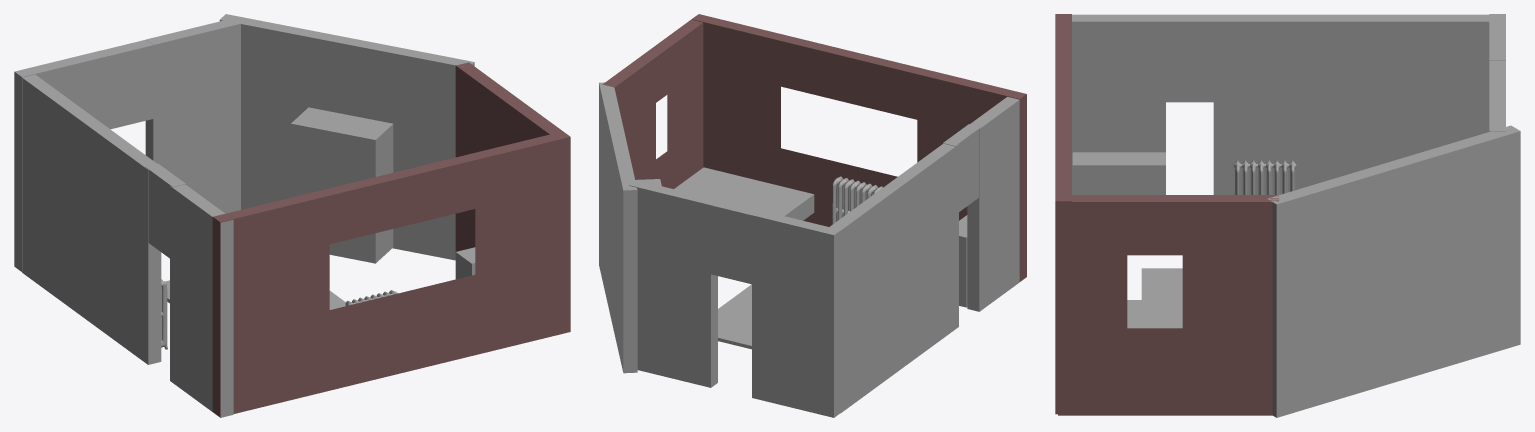
The model's file is whiteblock_hoperoom_02.fbx.
3 views of the same model, side by side, from view 1: azimuth 30°, elevation 25°; view 2: azimuth 150°, elevation 25°; view 3: azimuth 270°, elevation 25° (orthographic). The views are drawn at different scales.
Parts seen in each view (by area): view 1: Wall_bigWindow, Wall_bathroom_1, Wall_diagonal, Wall_entry_3, Wall_bathroom_3, Wardrobe, Wall_littleWindow, Wall_entry_1, Wall_entry_2, Wall_bathroom_2, Nightstand; view 2: Wall_bigWindow, Wall_bathroom_1, Wall_entry_1, Wall_entry_3, Wall_littleWindow, Wall_bathroom_3, Wall_diagonal, Bed, Wall_entry_2, Wall_bathroom_2, Playing_carpet, Radiator_bedSide_m (+1 smaller); view 3: Wall_diagonal, Wall_littleWindow, Wall_bathroom_1, Wall_bathroom_3, Wall_bathroom_2, Shelf, Wall_bigWindow, Playing_carpet, Radiator_bathroomSide_m, Wall_entry_3, Wall_entry_1, Bed.
Part boxes in pixels (x1,y1,x2,y2): Wall_bigWindow: (212,131,570,417); Wall_bathroom_1: (22,74,161,364); Wall_diagonal: (219,14,474,260); Wall_entry_3: (145,18,240,213); Wall_bathroom_3: (170,184,233,417); Wardrobe: (291,107,393,263); Wall_littleWindow: (455,62,567,251); Wall_entry_1: (14,50,109,271); Wall_entry_2: (102,39,155,129); Wall_bathroom_2: (145,163,185,258); Nightstand: (455,247,475,279); Wall_bigWindow: (692,14,1026,281); Wall_bathroom_1: (829,143,958,412); Wall_entry_1: (752,210,840,417); Wall_entry_3: (629,180,717,387); Wall_littleWindow: (602,19,703,188); Wall_bathroom_3: (967,97,1026,311); Wall_diagonal: (599,82,637,373); Bed: (674,167,814,220); Wall_entry_2: (708,200,758,284); Wall_bathroom_2: (943,124,980,211); Playing_carpet: (718,284,751,349); Radiator_bedSide_m: (832,176,882,224); Wall_diagonal: (1267,125,1520,417); Wall_littleWindow: (1058,195,1279,415); Wall_bathroom_1: (1213,14,1489,194); Wall_bathroom_3: (1072,14,1165,194); Wall_bathroom_2: (1160,14,1221,102); Shelf: (1072,152,1165,194); Wall_bigWindow: (1055,14,1071,414); Playing_carpet: (1141,268,1182,328); Radiator_bathroomSide_m: (1233,160,1296,194); Wall_entry_3: (1489,84,1505,131); Wall_entry_1: (1489,14,1505,60); Bed: (1127,300,1143,328).
Size of the model in its own units: 5.72 by 3.03 by 5.93.
